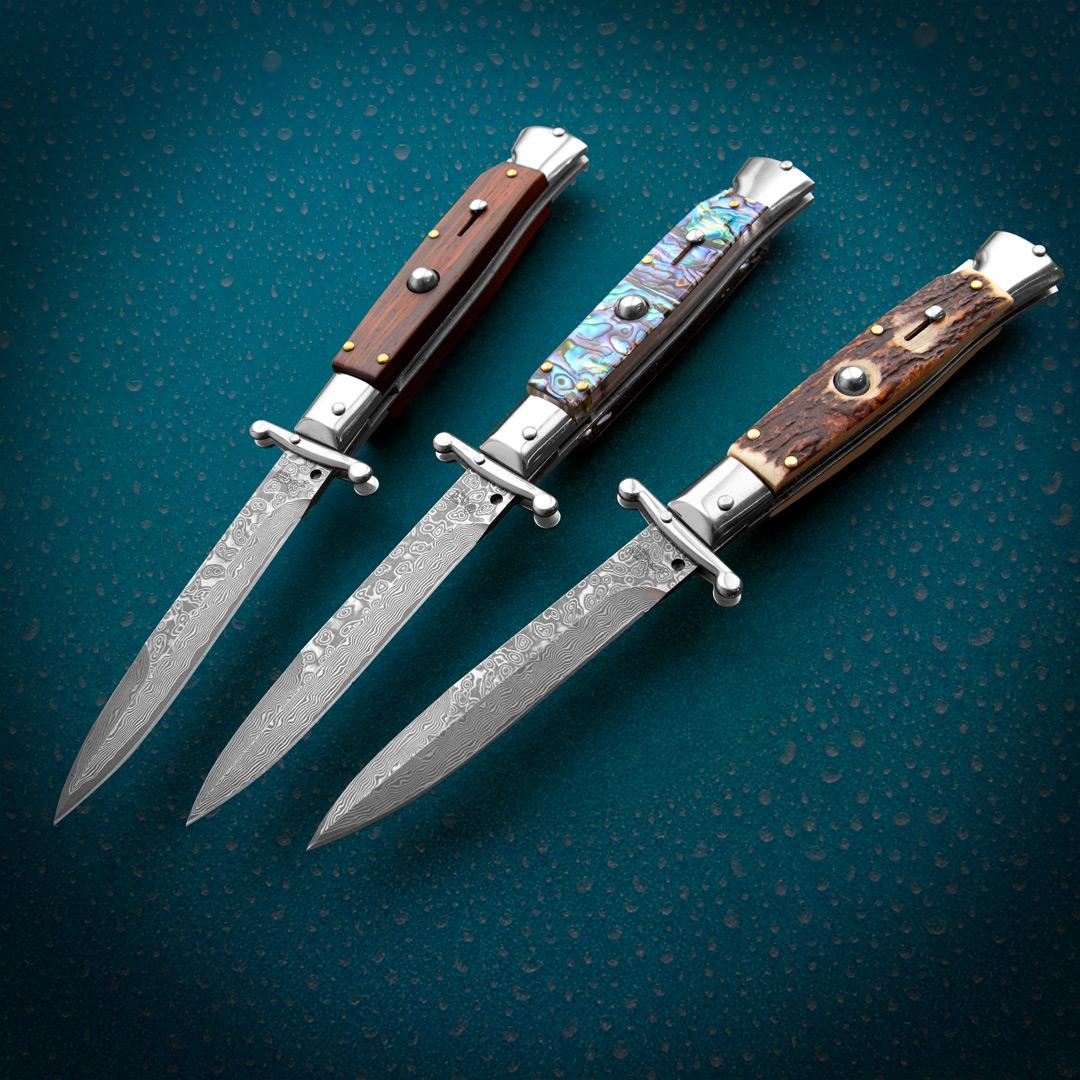Knife: (306, 227, 1067, 847), (183, 154, 819, 829), (57, 119, 593, 820)
